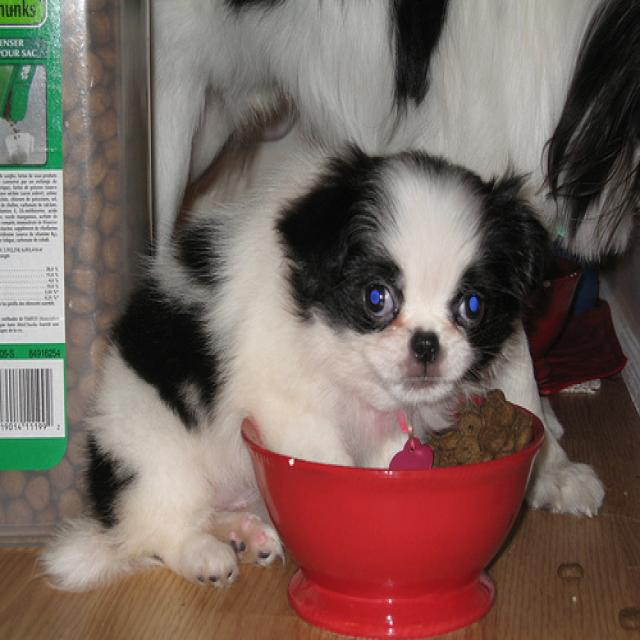dog-japanese_chin: (20, 128, 561, 606)
